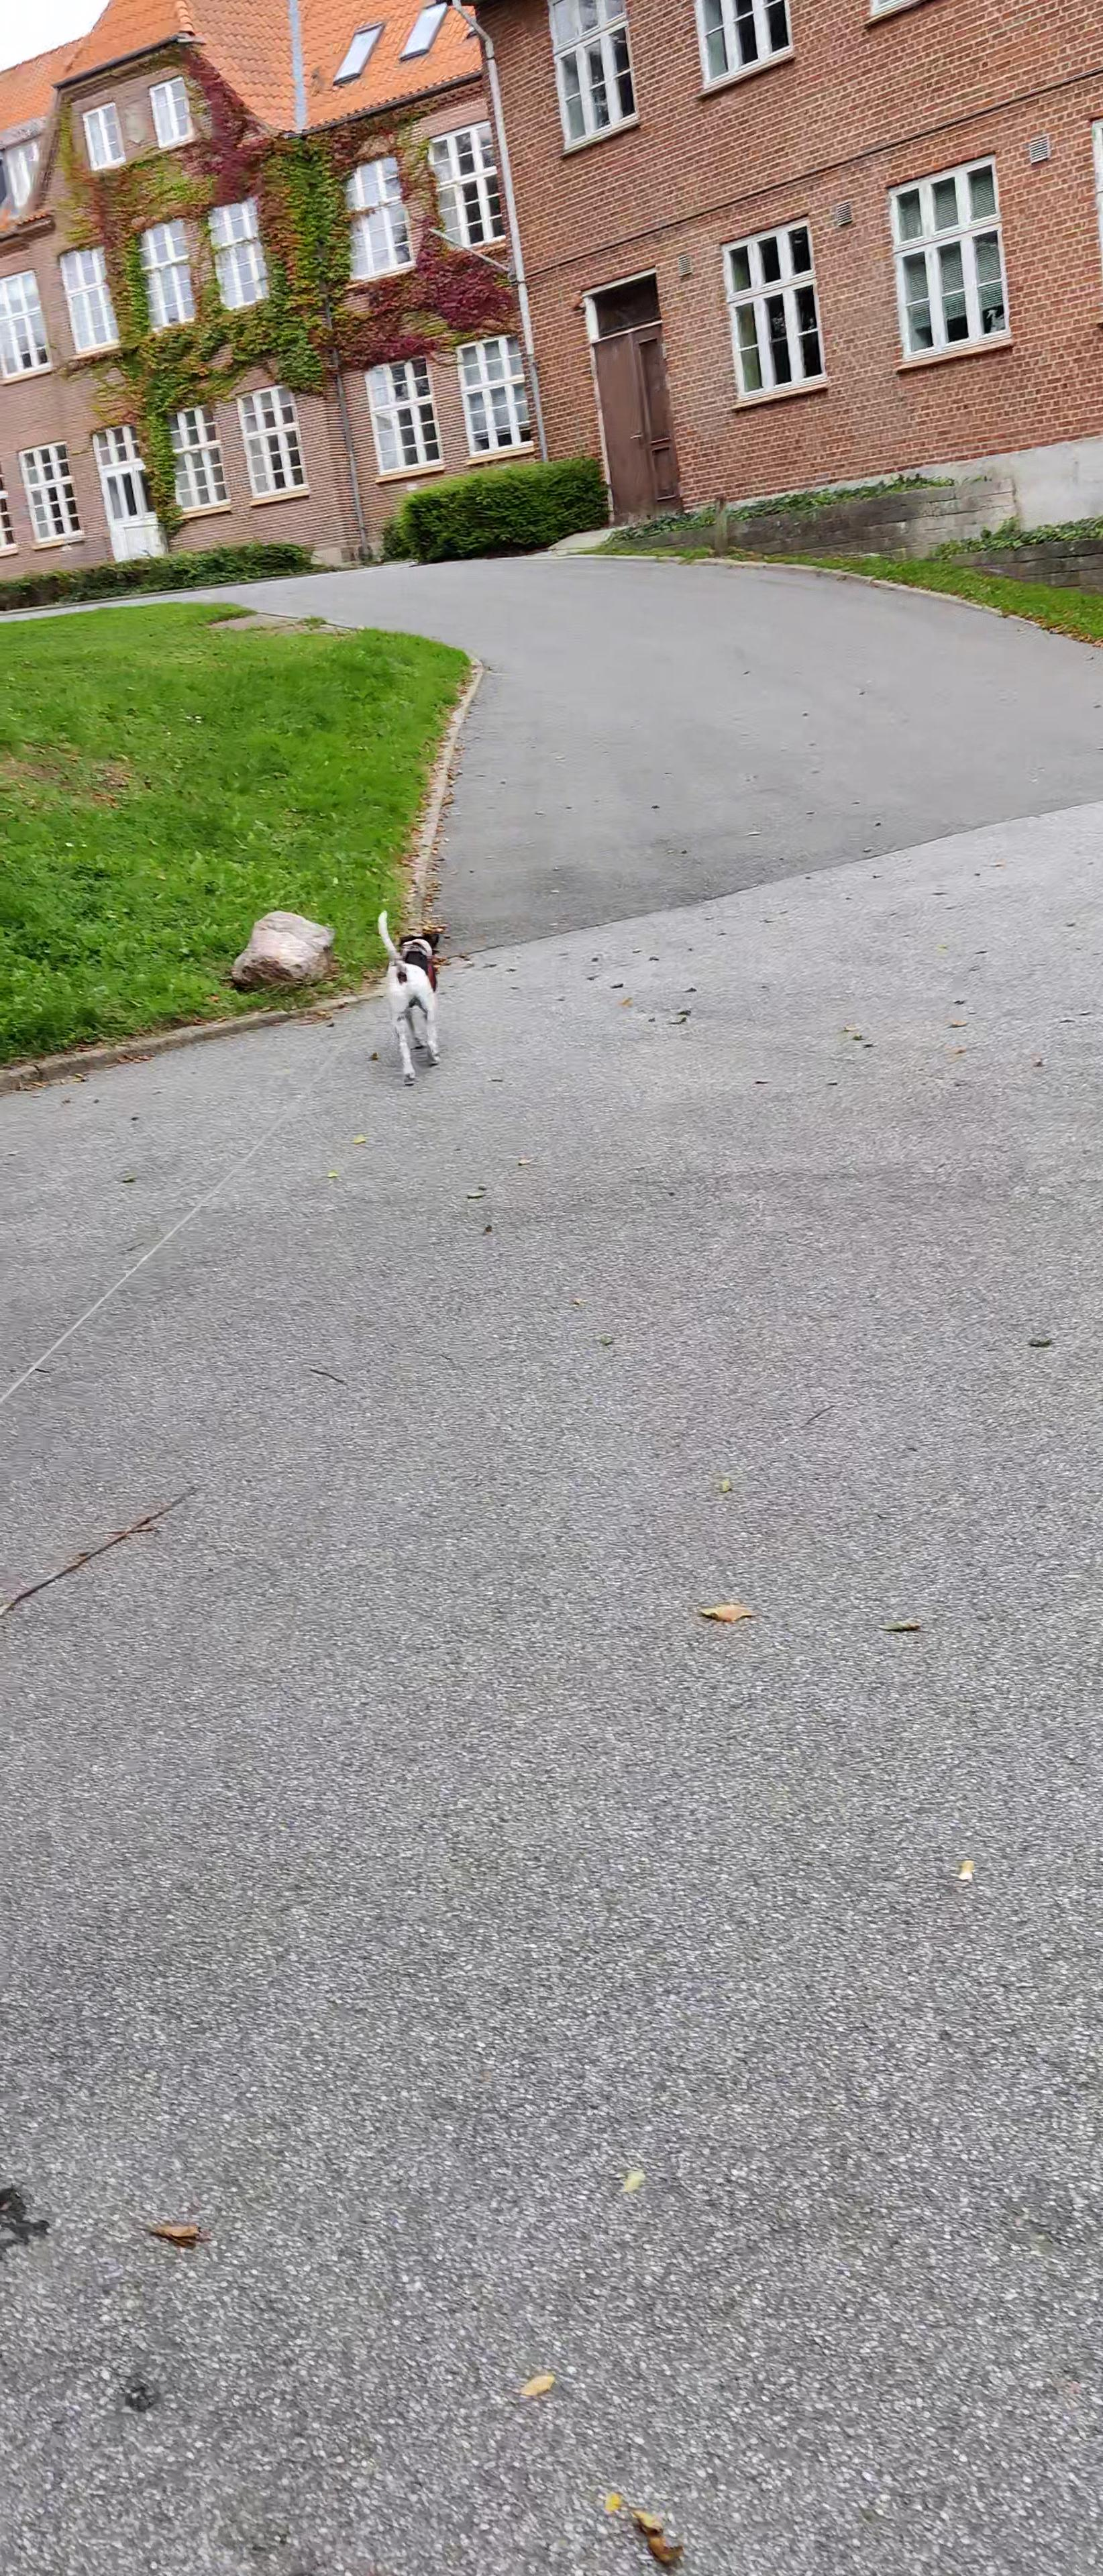Dog: (375, 905, 445, 1091)
